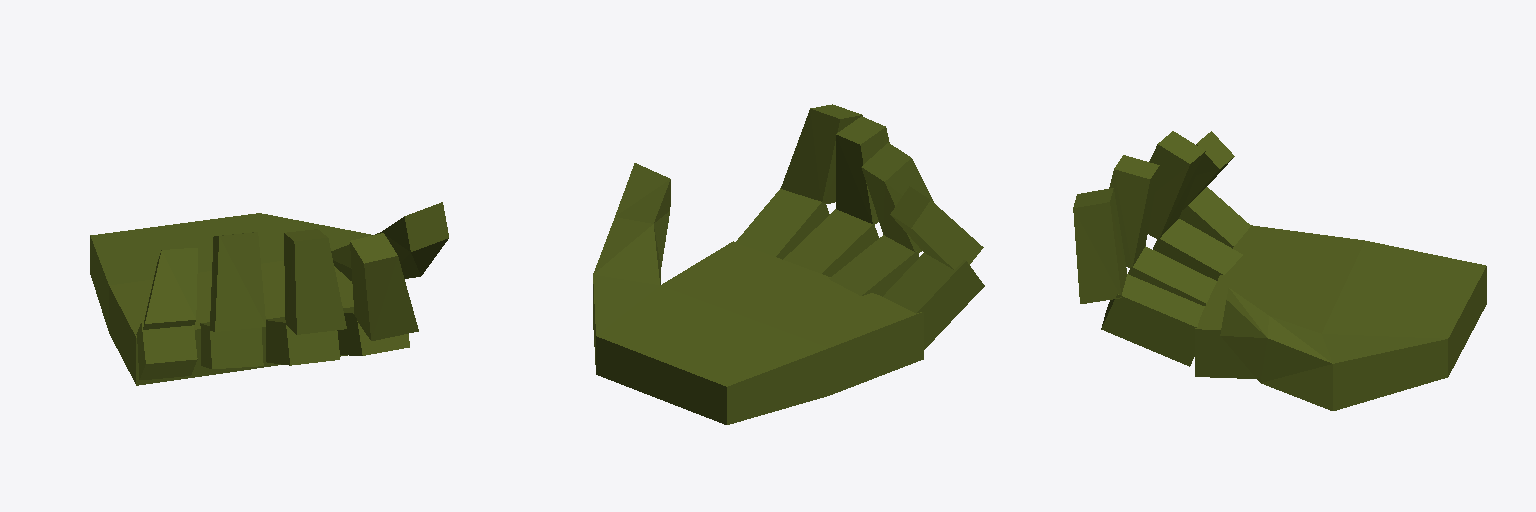
The model's file is bighand.obj.
3 renders of one model, left to right at view 1: azimuth 30°, elevation 25°; view 2: azimuth 150°, elevation 25°; view 3: azimuth 270°, elevation 25°, orthographic.
Visible parts, largest first — view 1: 立方体.006; view 2: 立方体.006; view 3: 立方体.006.
Part boxes in pixels (x1,y1,x2,y2): 立方体.006: (90,202,448,385); 立方体.006: (593,104,984,424); 立方体.006: (1073,131,1486,410).
Size of the model in its own units: 2.98 by 1.45 by 3.27.